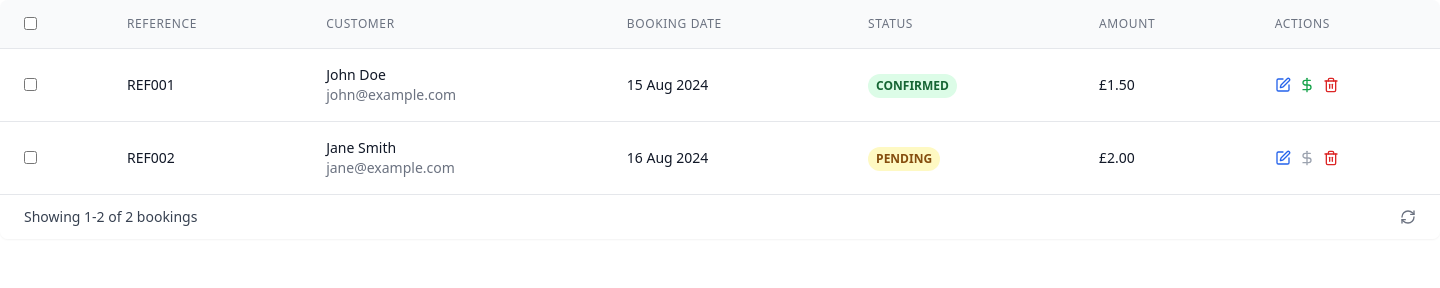
Test: BookingsTable › should handle select all functionality
The image size is (1440, 288).
What coordinates should you click on to do the following:
click the checkbox next to "Reference"
I would click on:
 (30, 24)
Its box is [24,17,37,30].
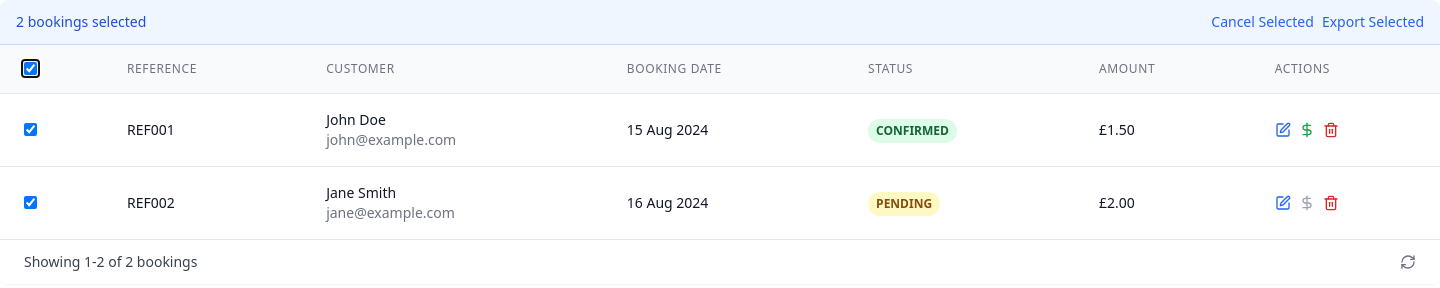
Check: the 2nd checkbox is checked, box [24,123,37,136]
Check: the 3rd checkbox is checked, box [24,196,37,209]
